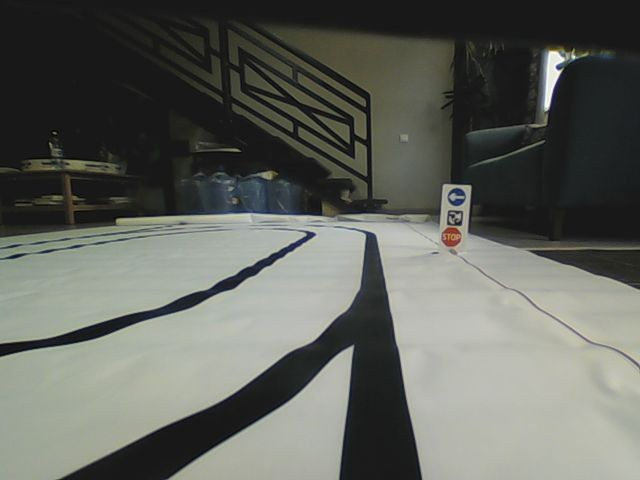Stop: (440, 226, 462, 247)
